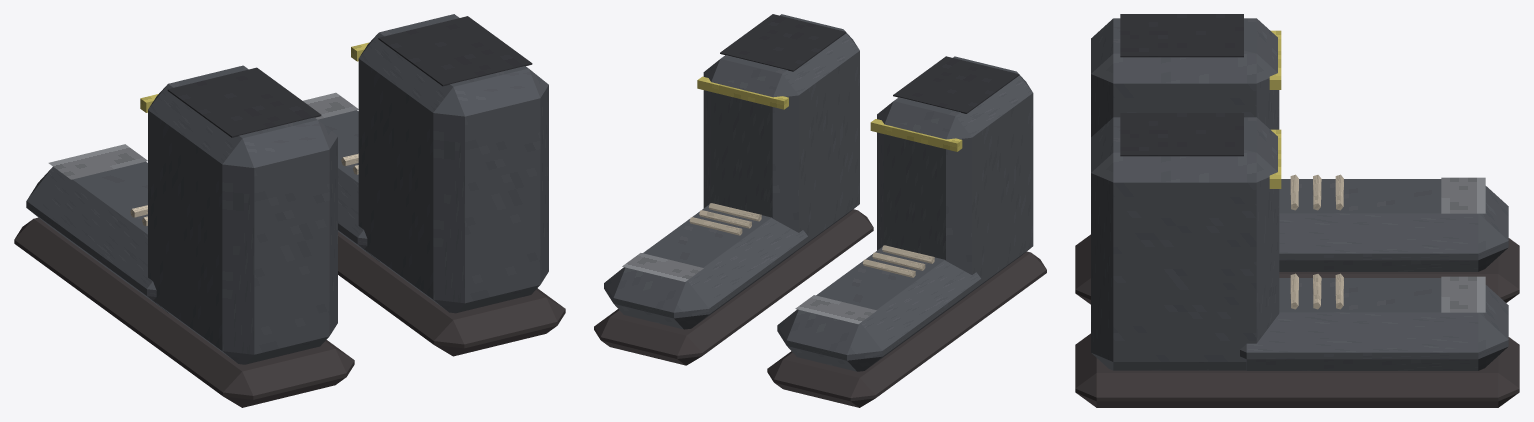
Rendered from boots_bunker.glb.
3 views of the same model, side by side, from view 1: azimuth 30°, elevation 25°; view 2: azimuth 150°, elevation 25°; view 3: azimuth 270°, elevation 25° (orthographic). The views are drawn at different scales.
Visible parts, largest first — view 1: block_shaft (×2), block_shaped sole (×2), block_vamp and toe (×2), block_opening (×2), block_reinforced toe panel (×2); view 2: block_shaft (×2), block_vamp and toe (×2), block_shaped sole (×2), block_opening (×2), block_reinforced toe panel (×2), block_visible cuff stripe (×2), block_lace (×3); view 3: block_shaft (×2), block_vamp and toe (×2), block_shaped sole (×2), block_opening (×2), block_reinforced toe panel (×2), block_visible cuff stripe (×2).
Boxes of the visible parts, x1,y1,x2,y2 form: block_shaft (×2): (148,14,548,364); block_shaped sole (×2): (14,217,565,407); block_vamp and toe (×2): (26,110,379,313); block_opening (×2): (167,16,532,137); block_reinforced toe panel (×2): (48,92,358,179); block_shaft (×2): (703,14,1033,291); block_vamp and toe (×2): (604,203,981,371); block_shaped sole (×2): (594,209,1046,407); block_opening (×2): (720,14,1019,113); block_reinforced toe panel (×2): (622,253,876,324); block_visible cuff stripe (×2): (697,76,962,151); block_lace (×3): (699,203,925,270); block_shaft (×2): (1091,18,1279,370); block_vamp and toe (×2): (1240,179,1508,370); block_shaped sole (×2): (1075,234,1519,407); block_opening (×2): (1120,14,1243,156); block_reinforced toe panel (×2): (1441,177,1485,312); block_visible cuff stripe (×2): (1269,30,1281,188).
Bounding box in the file's own units: 0.2575 × 0.1882 × 0.3006.
Materials: 1 (1 with a texture image).
